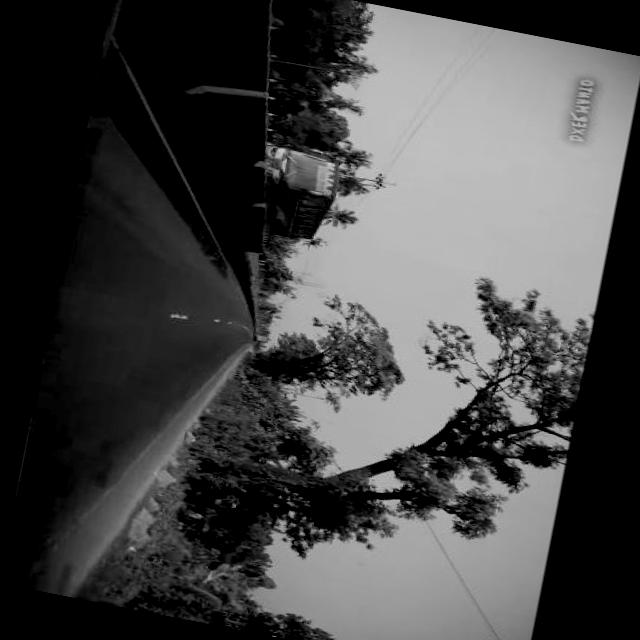bus: (248, 142, 347, 250)
truck: (250, 334, 270, 346)
